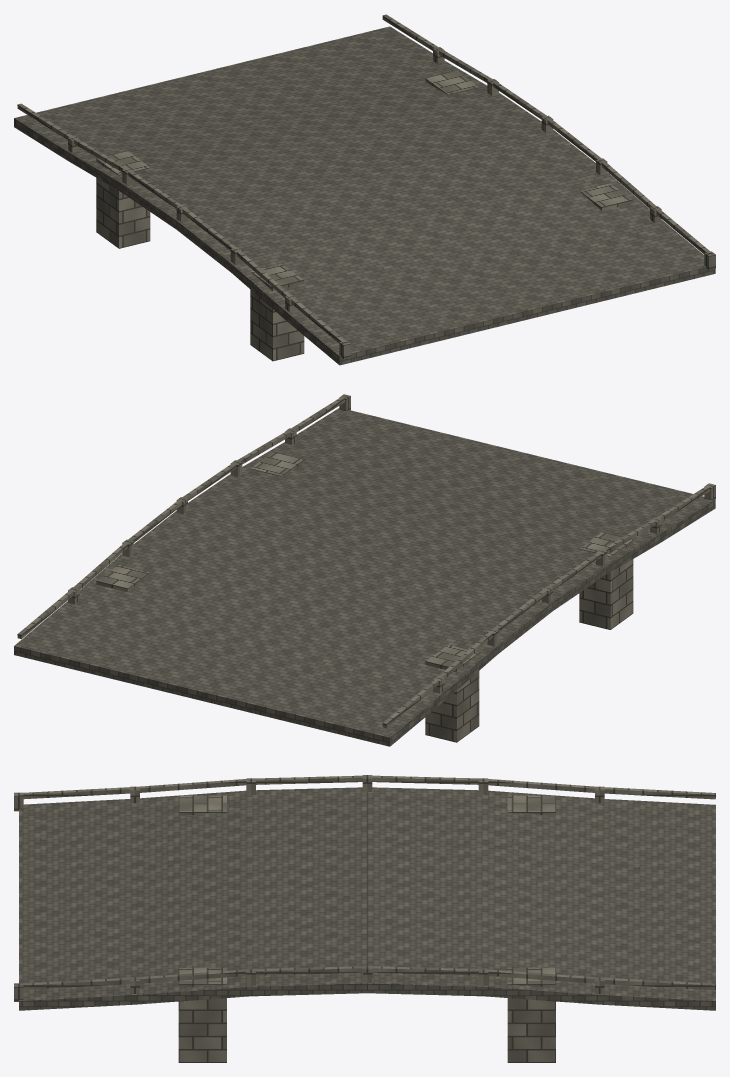
File: SG_Canal_Bridge_LOD1.fbx
3 renders of one model, top to bottom at view 1: azimuth 30°, elevation 25°; view 2: azimuth 150°, elevation 25°; view 3: azimuth 270°, elevation 25°, orthographic. The views are drawn at different scales.
Visible parts, largest first — view 1: SG_Canal_Bridge_Detail1; view 2: SG_Canal_Bridge_Detail1; view 3: SG_Canal_Bridge_Detail1.
Boxes of the visible parts, bbox=[...] form: SG_Canal_Bridge_Detail1: bbox=[14, 14, 715, 365]; SG_Canal_Bridge_Detail1: bbox=[14, 394, 715, 746]; SG_Canal_Bridge_Detail1: bbox=[14, 775, 715, 1062].
Size of the model in its own units: 48 by 11.05 by 72.51.
